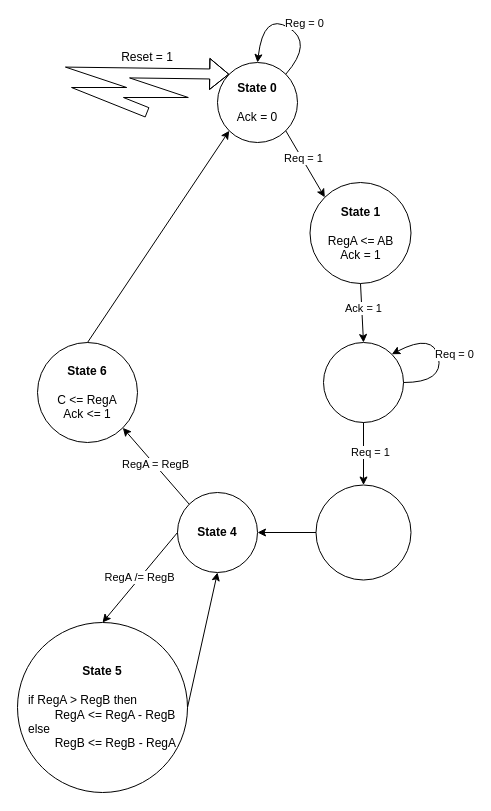
The diagram is 491 pixels wide and 811 high, and some of its shapes have lost their labels. Each missing label, with the centre of its shape:
"State 2 Ack = 0" belongs at point 363,382.
"State 3 RegB <= AB" belongs at point 363,532.
